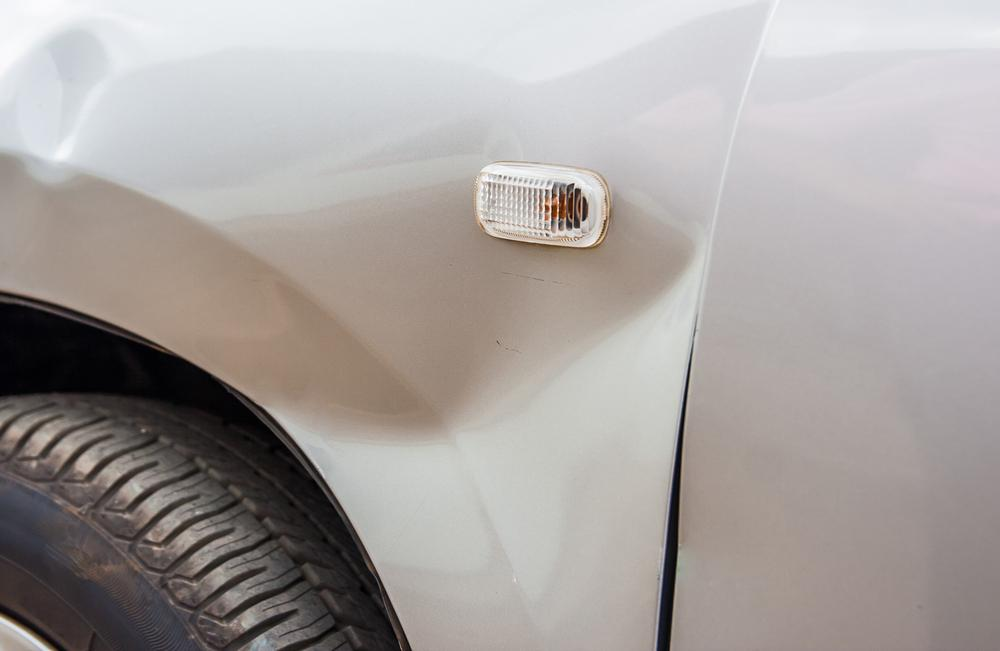dent: (197, 186, 704, 615), (1, 23, 119, 186)
